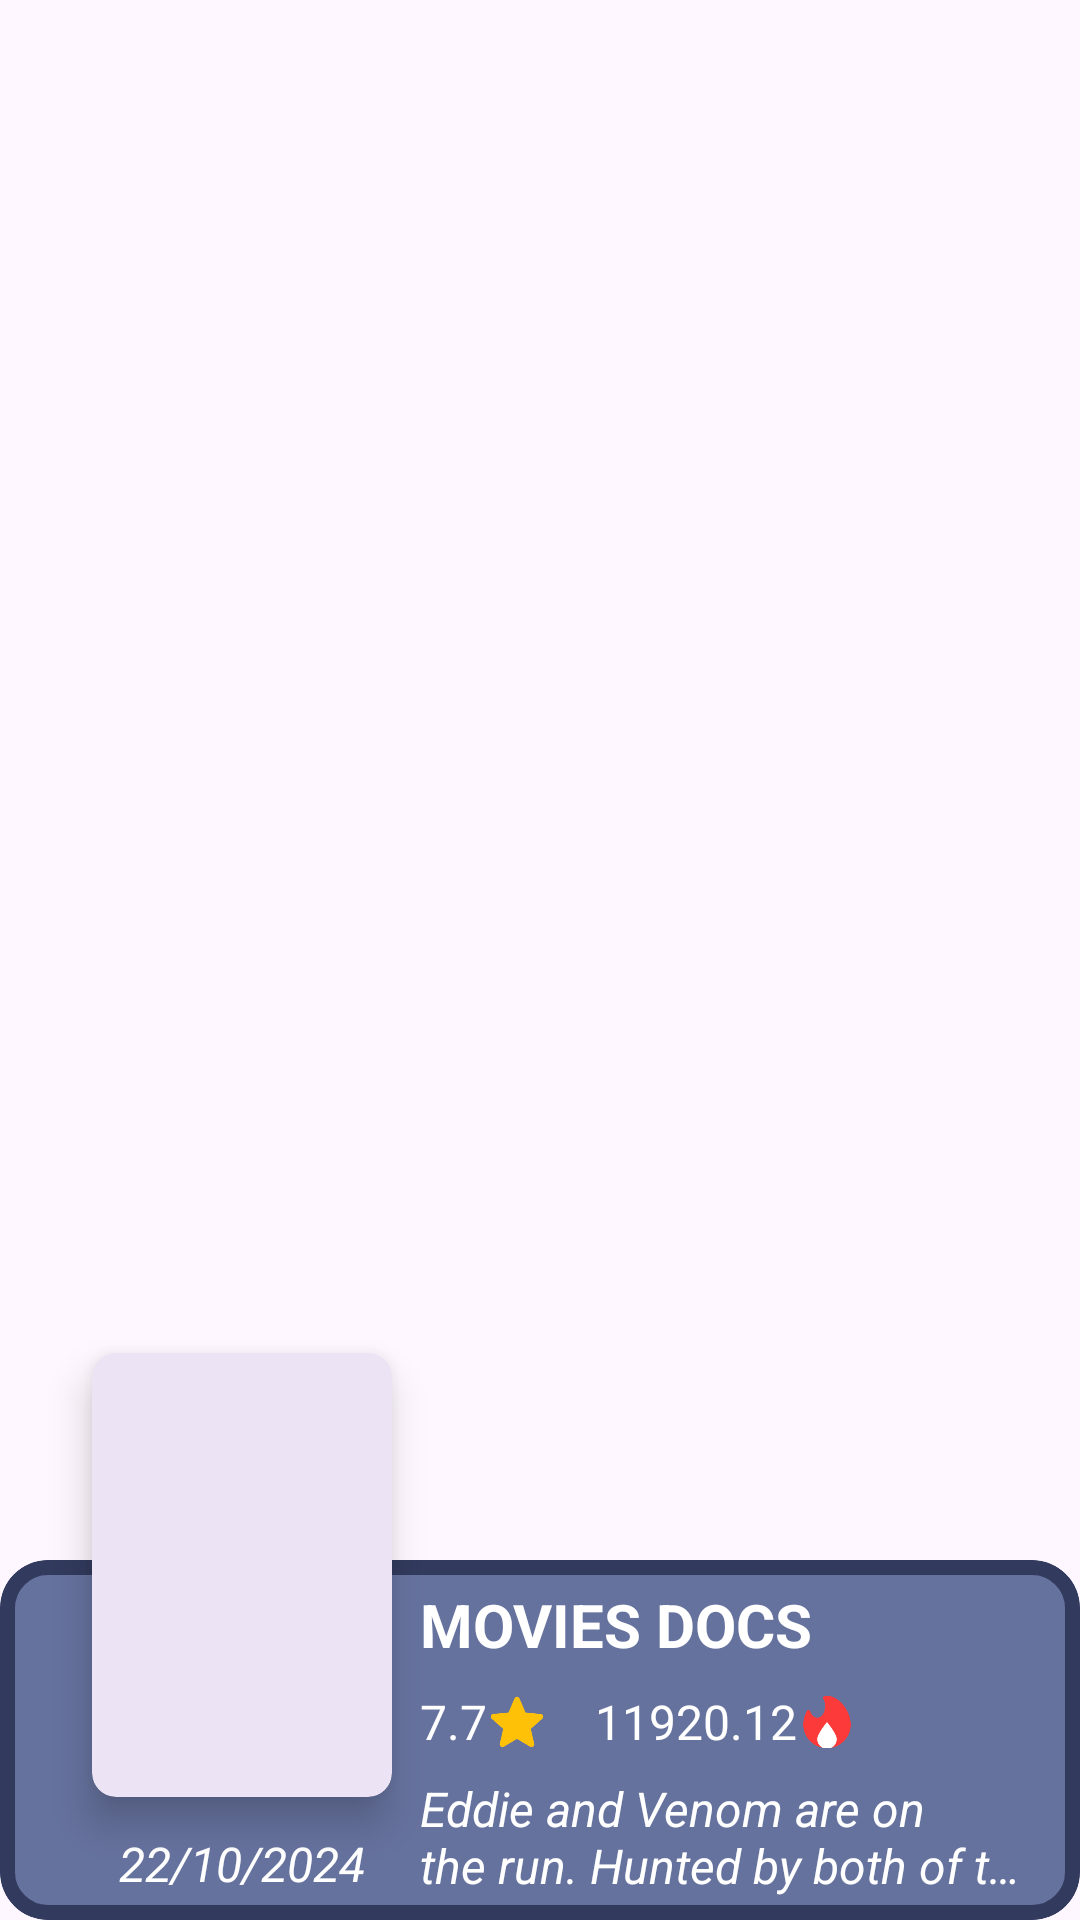

Icon bounding boxes for this 1080w x 1920h phone screenshot, format (x1, y1, x2, y2):
popularity: (803, 1696, 851, 1748)
star rating: (491, 1697, 543, 1747)
